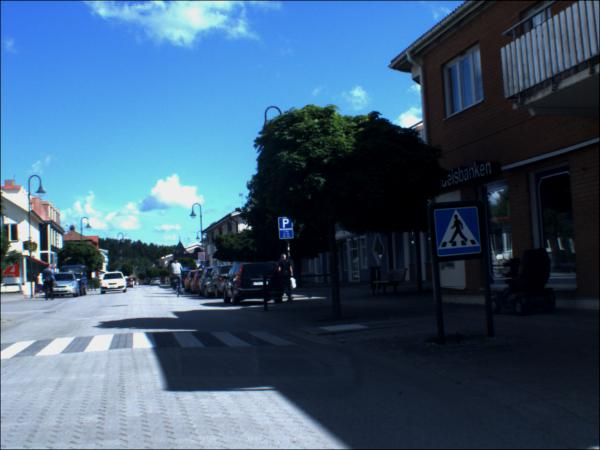NO_PARKING: (199, 253, 207, 263)
PEDESTRIAN_CROSSING: (432, 207, 486, 257)
